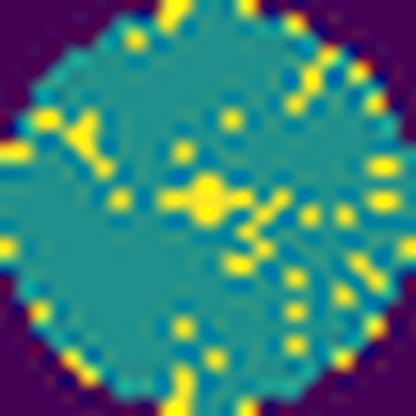Center: (154, 171, 263, 226)
